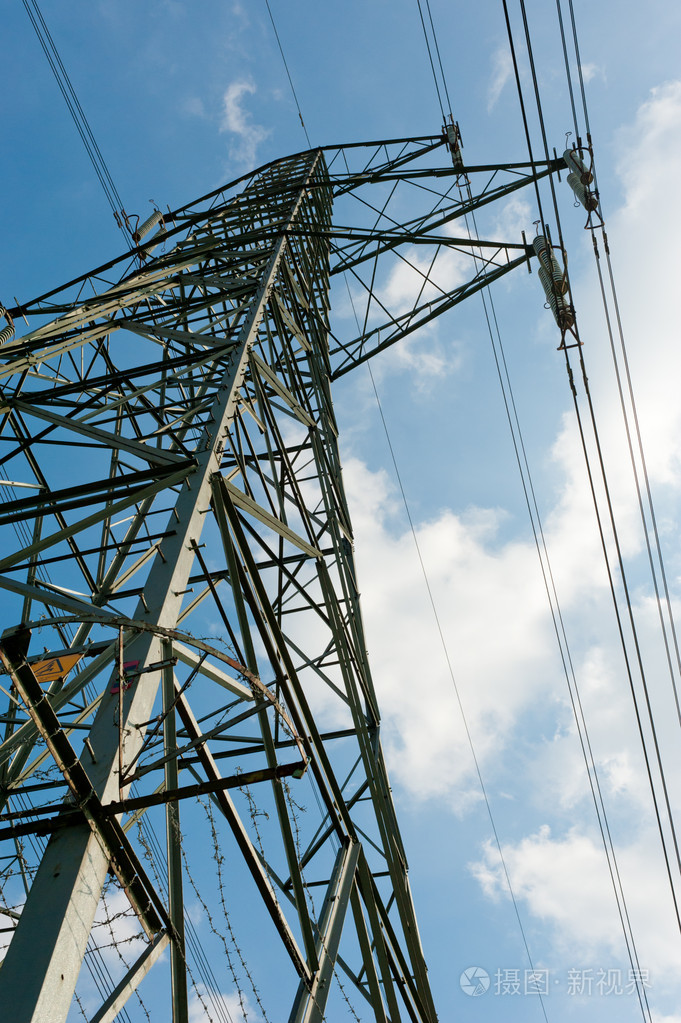insulator: (529, 234, 580, 329), (563, 148, 592, 210)
